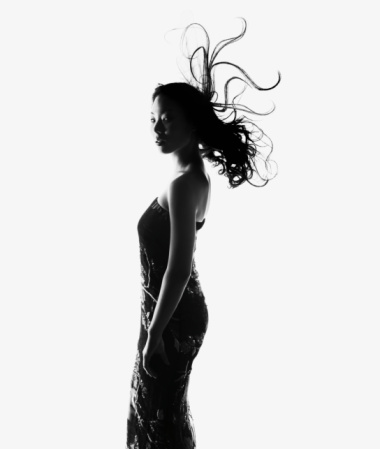em pe: (121, 68, 235, 448)
